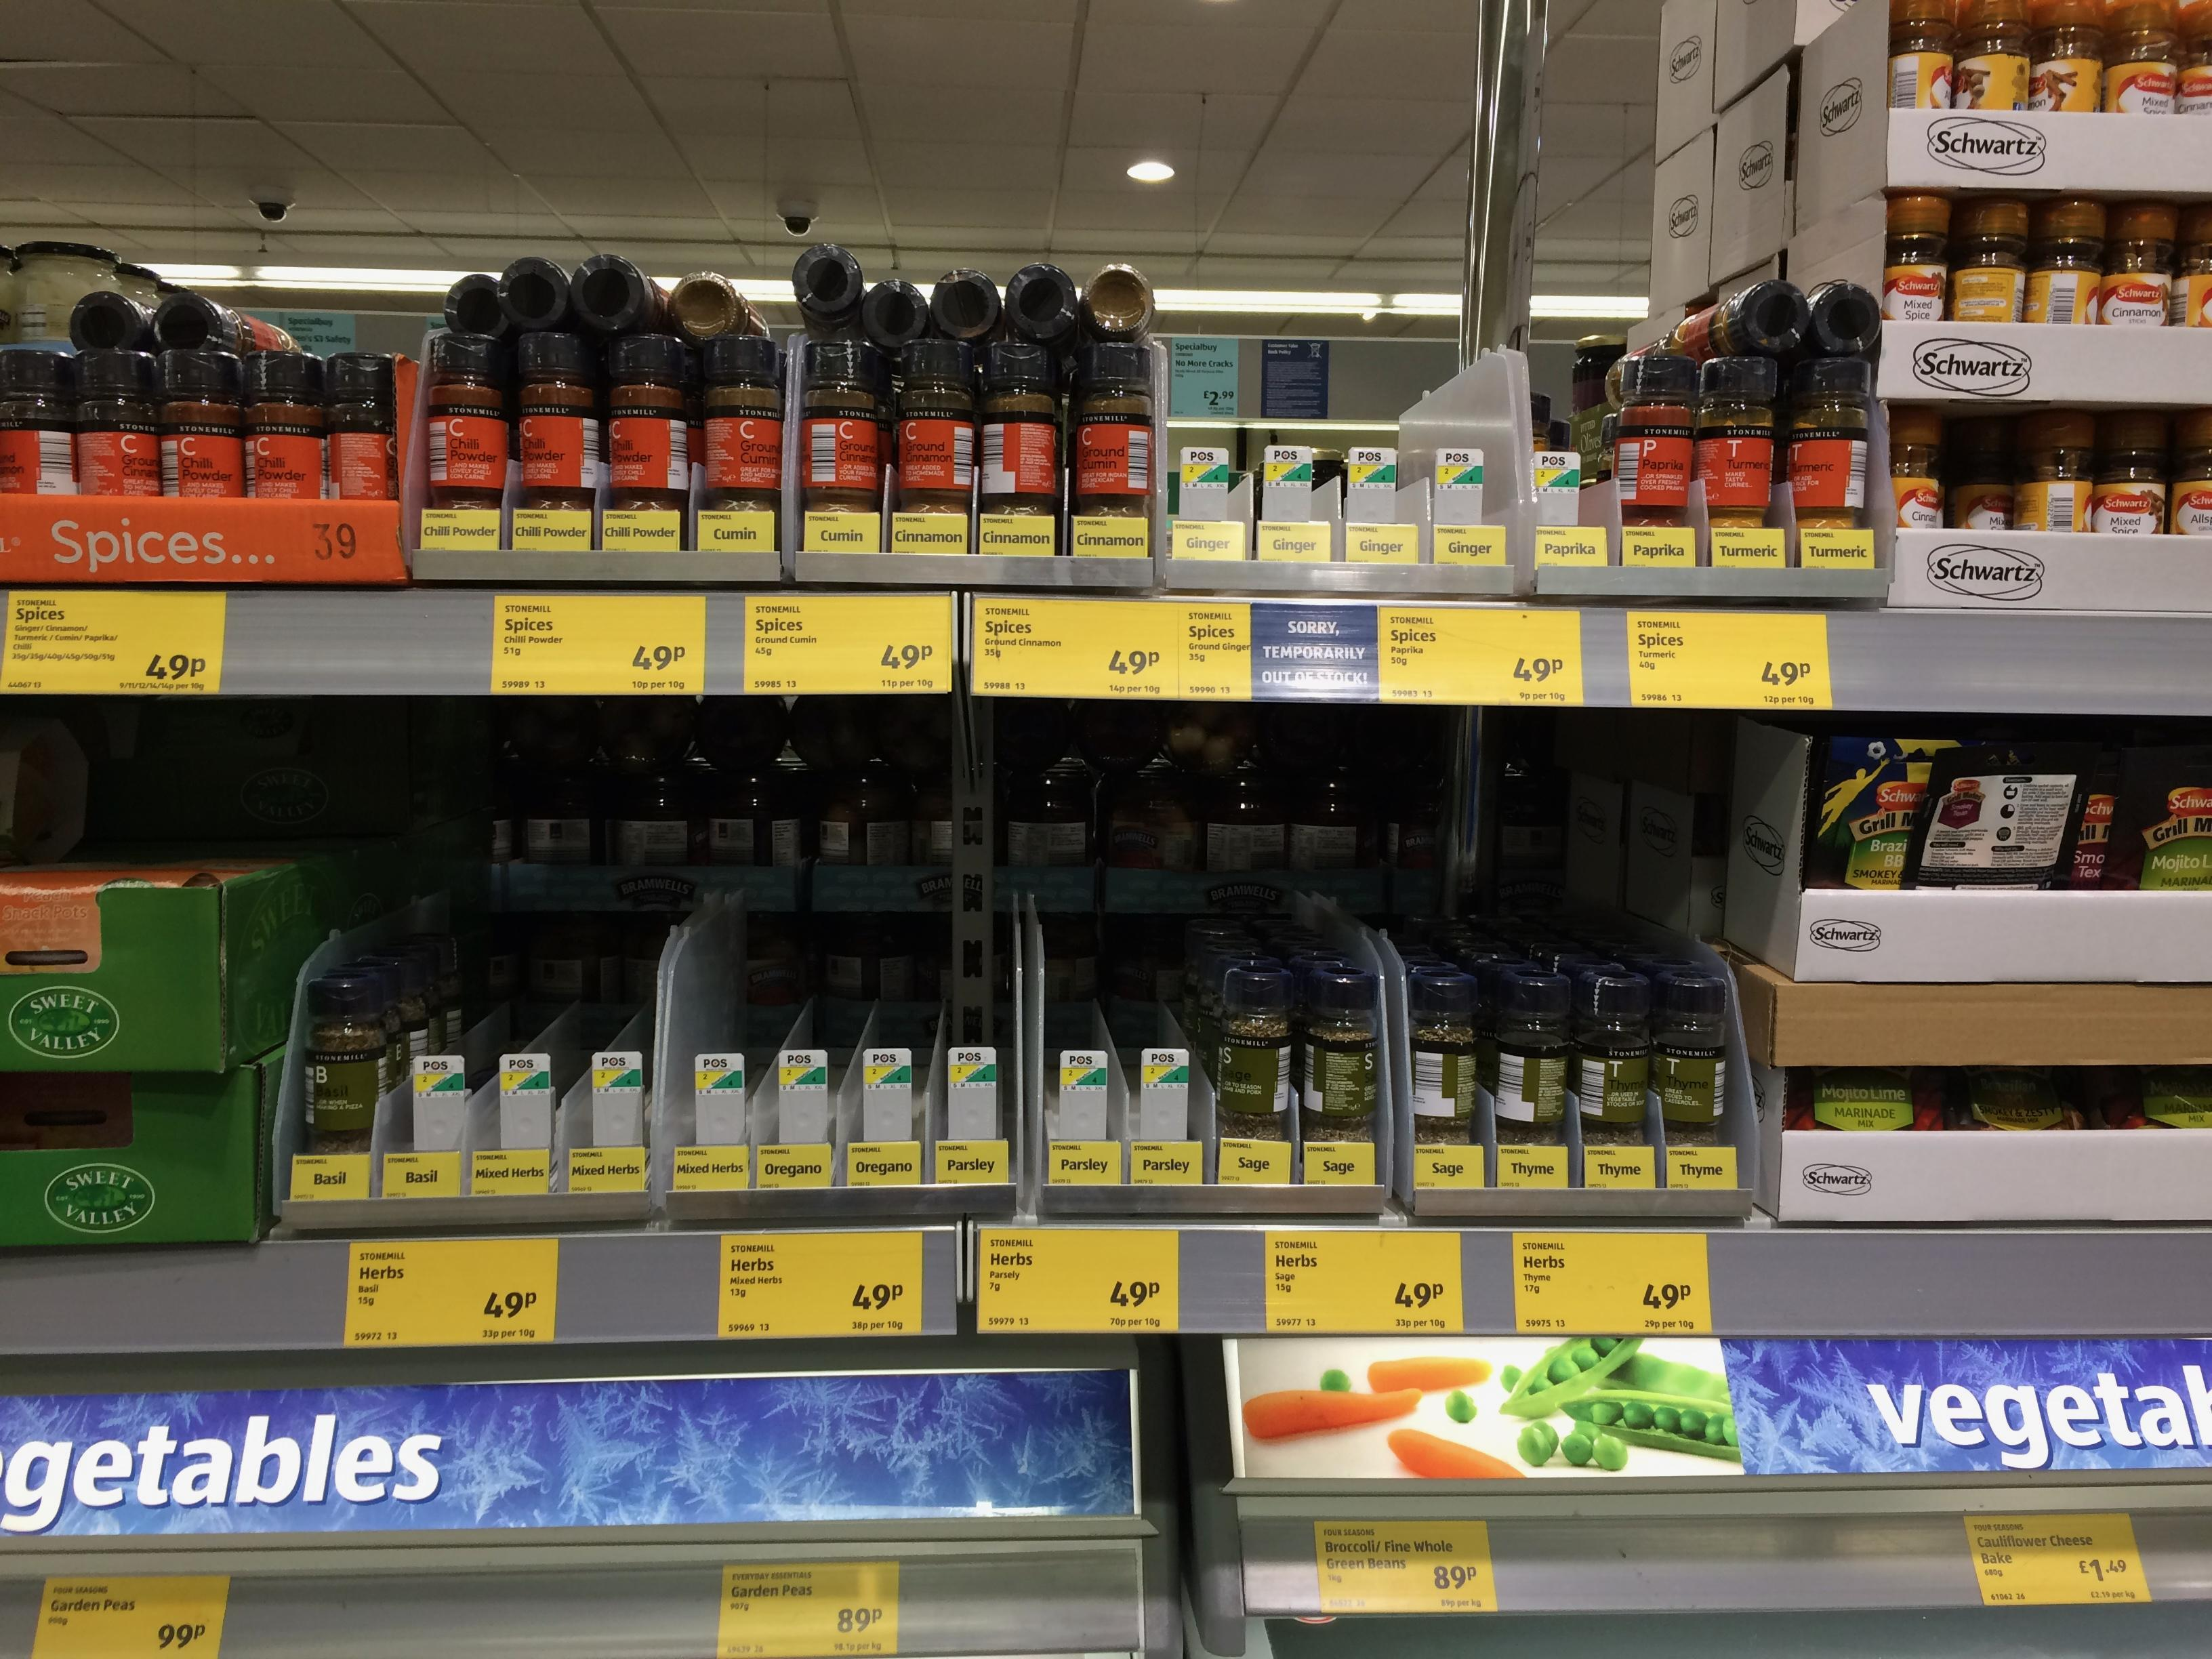spices: (1902, 742, 2097, 890), (516, 331, 599, 511), (1613, 352, 1698, 526), (425, 333, 509, 509), (1787, 357, 1872, 528), (799, 338, 883, 512), (608, 333, 690, 511), (305, 974, 385, 1155), (702, 333, 782, 512), (1695, 357, 1778, 528), (1073, 342, 1153, 518), (897, 338, 975, 516), (1493, 971, 1573, 1143), (1299, 965, 1378, 1140), (1212, 967, 1291, 1140), (1575, 969, 1651, 1145), (982, 342, 1059, 518), (1649, 971, 1726, 1145), (73, 350, 162, 497), (160, 350, 244, 497), (244, 352, 326, 500), (1407, 967, 1475, 1143), (359, 943, 442, 1077), (0, 350, 77, 495), (1672, 281, 1808, 361), (1463, 955, 1534, 1101), (326, 354, 397, 500), (2024, 197, 2106, 324), (14, 240, 117, 342), (705, 765, 806, 868), (2012, 411, 2095, 533), (2095, 202, 2177, 326), (334, 960, 409, 1094), (1949, 199, 2029, 322), (1106, 765, 1198, 870), (606, 769, 704, 866), (2090, 410, 2167, 533), (819, 763, 911, 864), (155, 291, 296, 355), (1881, 192, 1951, 321), (1005, 762, 1090, 866), (1202, 765, 1285, 871), (1287, 769, 1374, 870), (524, 915, 618, 1004), (570, 254, 672, 335), (1944, 416, 2013, 530), (521, 770, 604, 864), (667, 272, 765, 347), (792, 242, 866, 342), (1003, 261, 1080, 354), (406, 934, 463, 1053), (1888, 406, 1944, 528), (1381, 772, 1442, 870), (1078, 265, 1155, 342), (1804, 281, 1881, 357), (859, 279, 932, 359), (928, 268, 1001, 349), (496, 256, 571, 331), (2168, 410, 2212, 535), (68, 289, 155, 350), (2168, 204, 2212, 326), (617, 915, 669, 1004), (442, 272, 510, 336), (1571, 335, 1625, 413), (911, 779, 954, 866), (113, 261, 171, 314), (1585, 413, 1616, 483), (0, 246, 19, 345), (1531, 390, 1550, 453)
